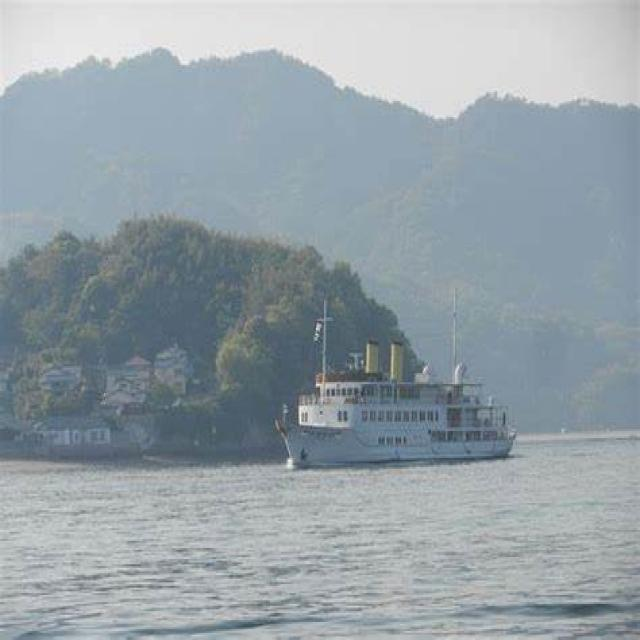passenger ship: (279, 303, 524, 488)
